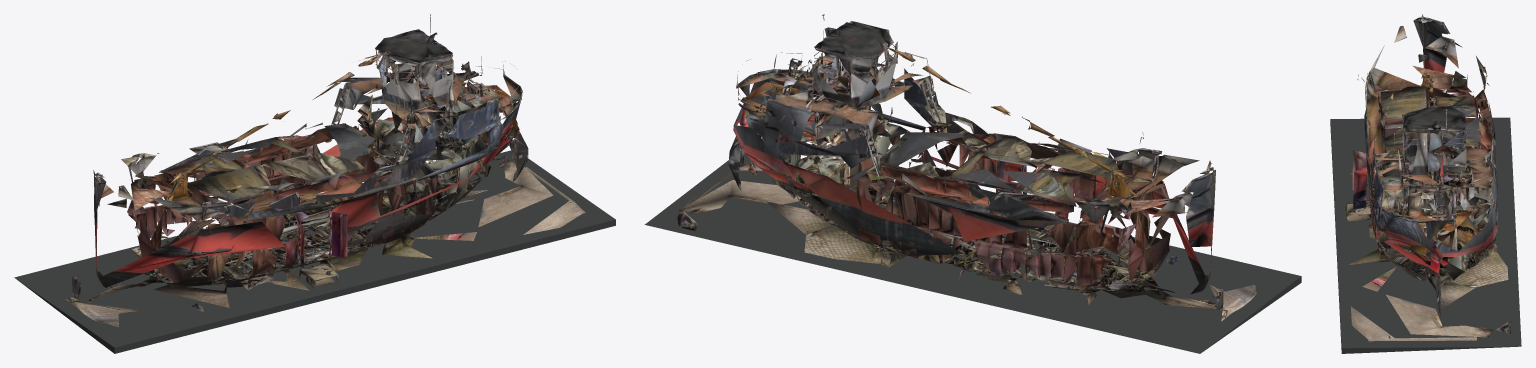
Rendered from mv-spartan.glb.
3 renders of one model, left to right at view 1: azimuth 30°, elevation 25°; view 2: azimuth 150°, elevation 25°; view 3: azimuth 270°, elevation 25°, orthographic. The views are drawn at different scales.
Parts seen in each view (by area): view 1: Spartan, Box001, default_SpartanDoor_Low_withTX_Material_t2_l0_u1_v1_0; view 2: Spartan, Box001; view 3: Spartan, Box001, default_SpartanDoor_Low_withTX_Material_t2_l0_u1_v1_0.
Boxes of the visible parts, left/top/right/bottom form: Spartan: left=65, top=14, right=585, bottom=327; Box001: left=14, top=150, right=615, bottom=353; default_SpartanDoor_Low_withTX_Material_t2_l0_u1_v1_0: left=299, top=212, right=347, bottom=268; Spartan: left=676, top=14, right=1256, bottom=321; Box001: left=644, top=151, right=1301, bottom=353; Spartan: left=1345, top=14, right=1510, bottom=341; Box001: left=1330, top=117, right=1521, bottom=353; default_SpartanDoor_Low_withTX_Material_t2_l0_u1_v1_0: left=1352, top=150, right=1368, bottom=210.
Bounding box in the file's own units: 24.22 × 9.14 × 8.48.
5 materials, 5 textured.
